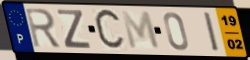0: (162, 11, 190, 52)
C: (93, 7, 127, 53)
I: (202, 10, 222, 53)
M: (119, 10, 162, 52)
R: (24, 7, 63, 49)
Z: (55, 8, 93, 50)
